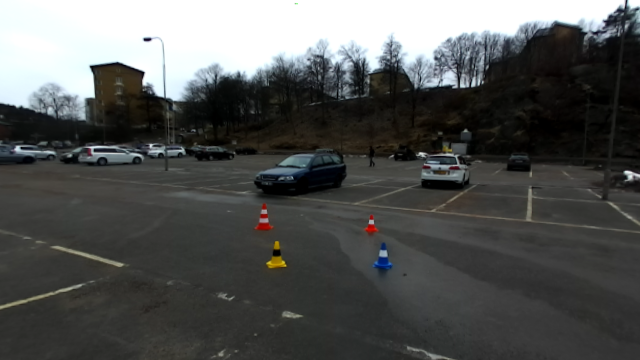blue: (372, 240, 395, 269)
orange: (363, 212, 379, 233)
orange2: (254, 202, 275, 231)
yellow: (264, 239, 287, 270)
